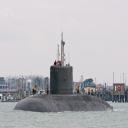submarine: (15, 31, 120, 112)
